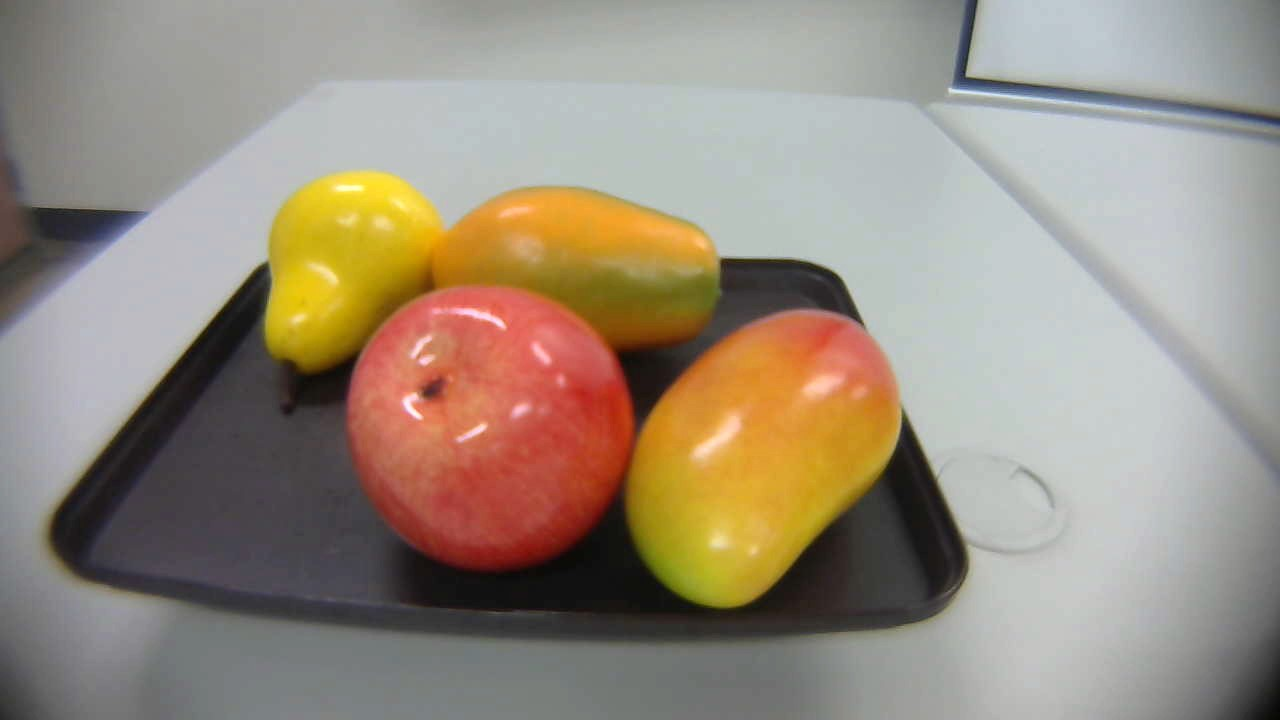papya: (418, 184, 728, 376)
red apple: (342, 279, 638, 578)
red mango: (618, 308, 915, 611)
yellow pear: (262, 173, 442, 423)
